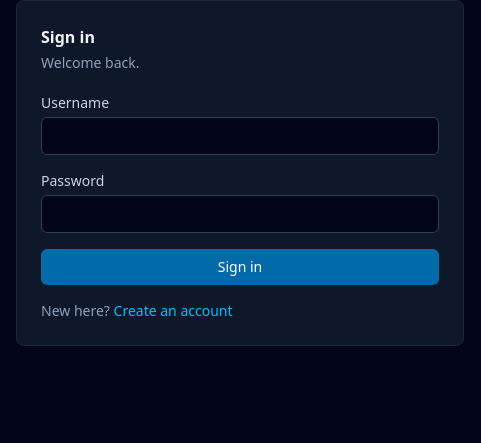
AuthScreen › shows a friendly error for a taken username
Click the button "Create an account": coordinates (173, 311) [114,301,233,321]
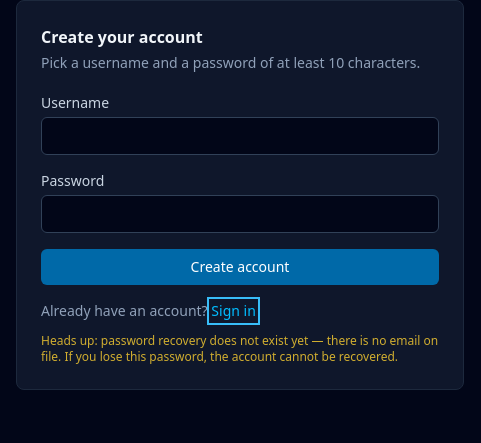
In the field labelled "Username": coordinates (240, 136) [41,117,439,155], type "taken"
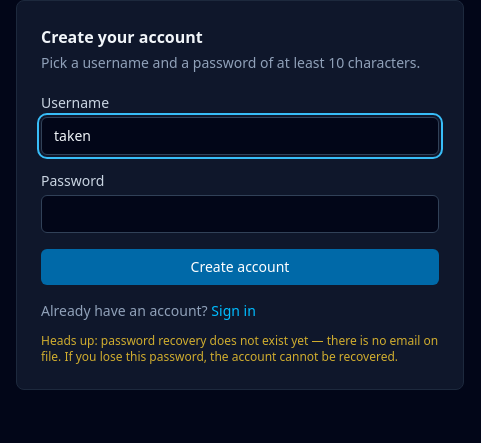
In the password field labelled "Password": coordinates (240, 214) [41,195,439,233], type "long-enough-password"
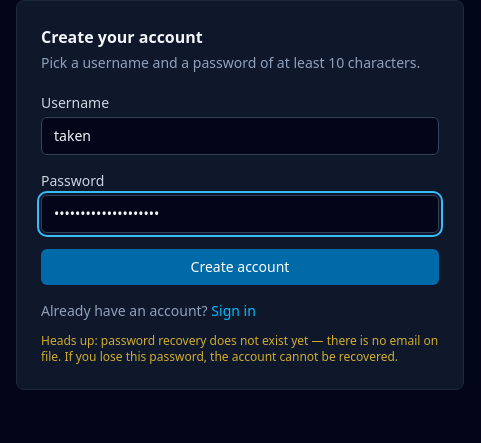
Click the button "Create account": coordinates (240, 267) [41,249,439,285]
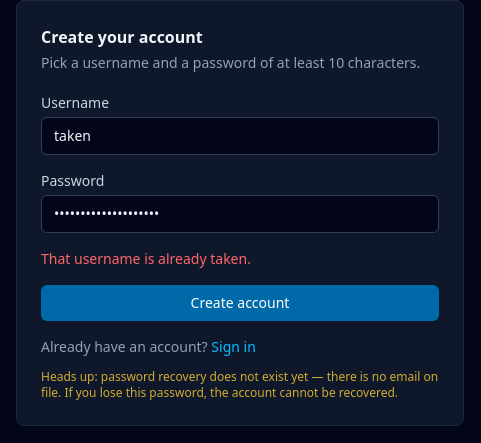
Expected: the message shows "already taken", [41,249,251,268]
